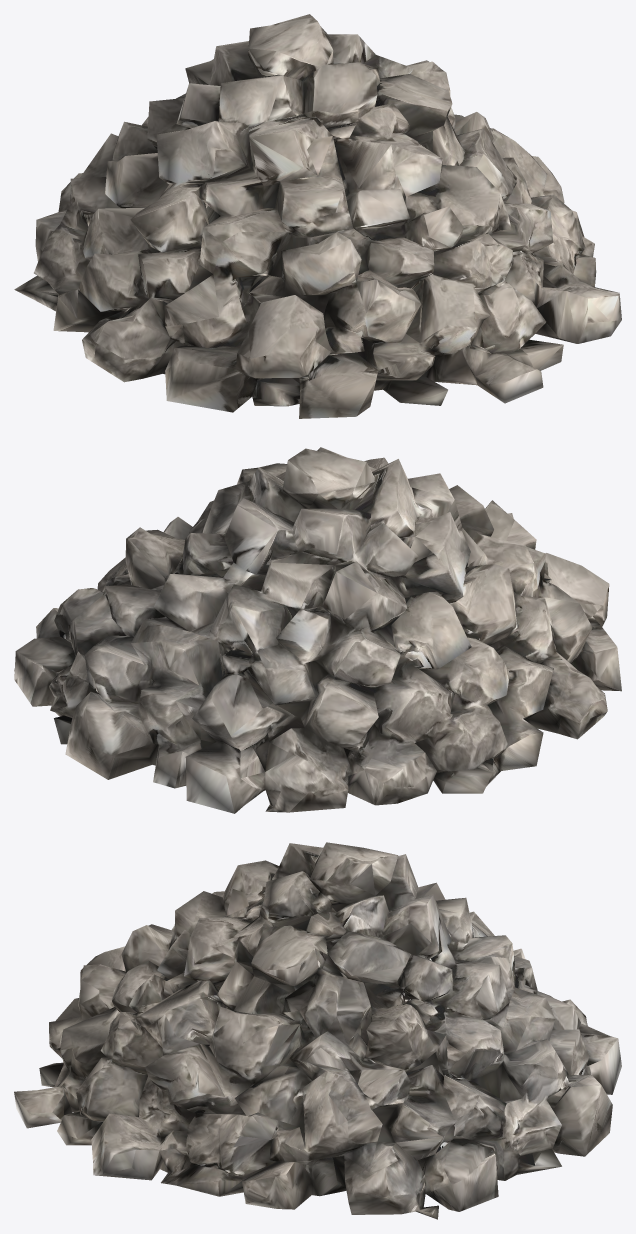
File: talus_a_lod1.glb
3 renders of one model, top to bottom at view 1: azimuth 30°, elevation 25°; view 2: azimuth 150°, elevation 25°; view 3: azimuth 270°, elevation 25°, orthographic. The views are drawn at different scales.
Parts seen in each view (by area): view 1: talus_a_lod1; view 2: talus_a_lod1; view 3: talus_a_lod1.
Part boxes in pixels (left/top/right/bottom): talus_a_lod1: left=14, top=14, right=621, bottom=418; talus_a_lod1: left=14, top=447, right=621, bottom=813; talus_a_lod1: left=14, top=842, right=621, bottom=1219.
Bounding box in the file's own units: 18.98 × 8.95 × 20.06.
Materials: 1 (1 with a texture image).
